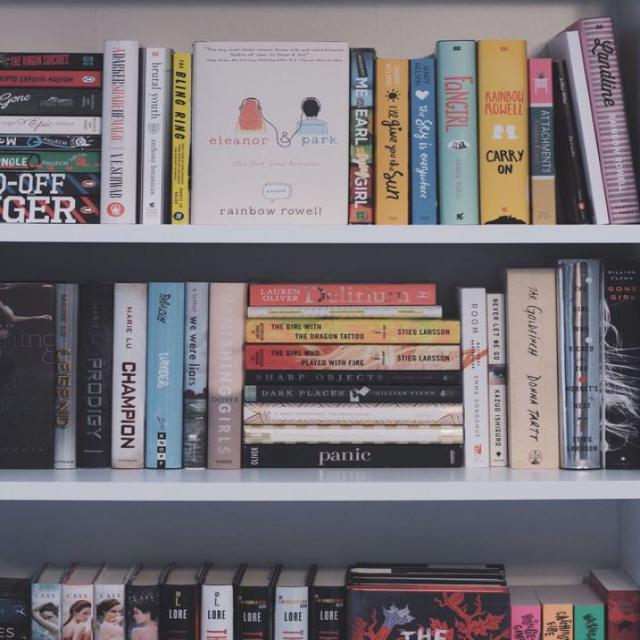book: (581, 16, 640, 224), (506, 269, 559, 468), (0, 283, 53, 469), (478, 40, 530, 224), (559, 258, 601, 469), (568, 32, 610, 225), (437, 40, 479, 224), (604, 260, 640, 469), (100, 40, 140, 224), (146, 282, 184, 468), (110, 283, 148, 468), (77, 283, 112, 468), (208, 282, 242, 470), (555, 61, 593, 224), (137, 48, 171, 224), (375, 59, 409, 224), (244, 345, 461, 370), (243, 444, 462, 467), (246, 320, 459, 343), (462, 288, 489, 468), (243, 403, 462, 425), (347, 48, 374, 224), (54, 283, 79, 469), (244, 424, 463, 444), (530, 58, 556, 223), (411, 59, 437, 224), (184, 282, 207, 468), (487, 294, 509, 466), (250, 285, 436, 305), (244, 386, 461, 402), (245, 370, 461, 386), (171, 53, 191, 224), (0, 195, 99, 224), (0, 88, 102, 116), (247, 306, 442, 318), (0, 172, 100, 195), (1, 152, 99, 172), (0, 52, 102, 70), (0, 116, 102, 134), (0, 134, 101, 151), (0, 71, 101, 86)
